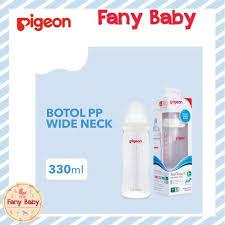BIODEGRADABLE: (114, 102, 158, 206)
